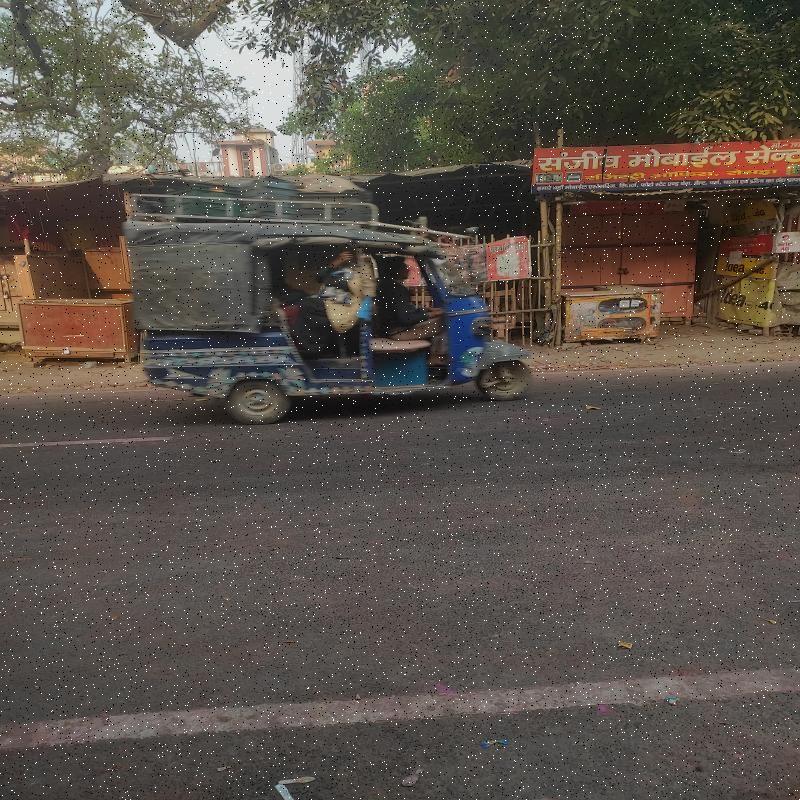auto: (132, 221, 537, 410)
